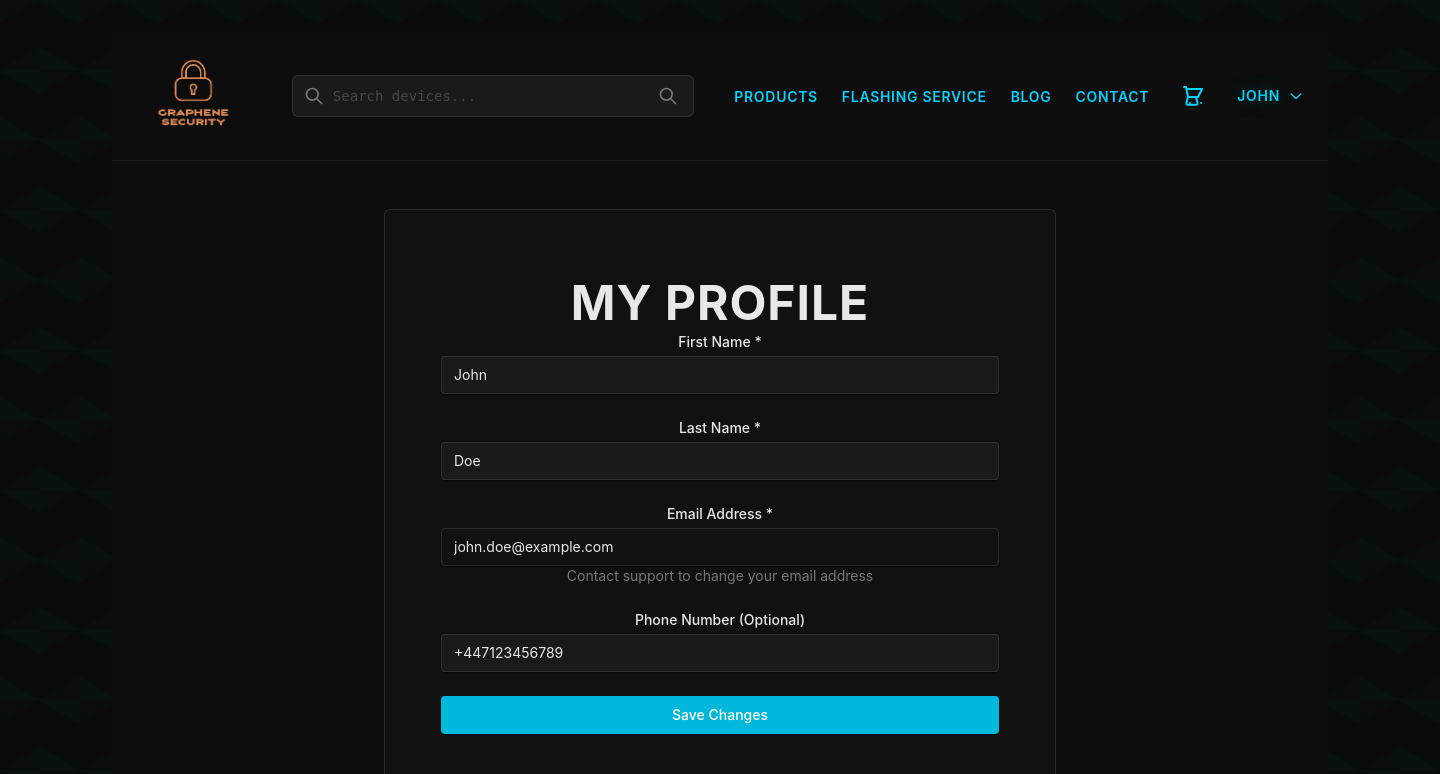
Test case: Profile Flow Integration Tests › should successfully update profile information
Expected: the heading "My Profile" is shown, [571,273,869,332]
Update first name
Type "Jane" into the field labelled "First Name *" at x=720, y=375, box [441,356,999,394]
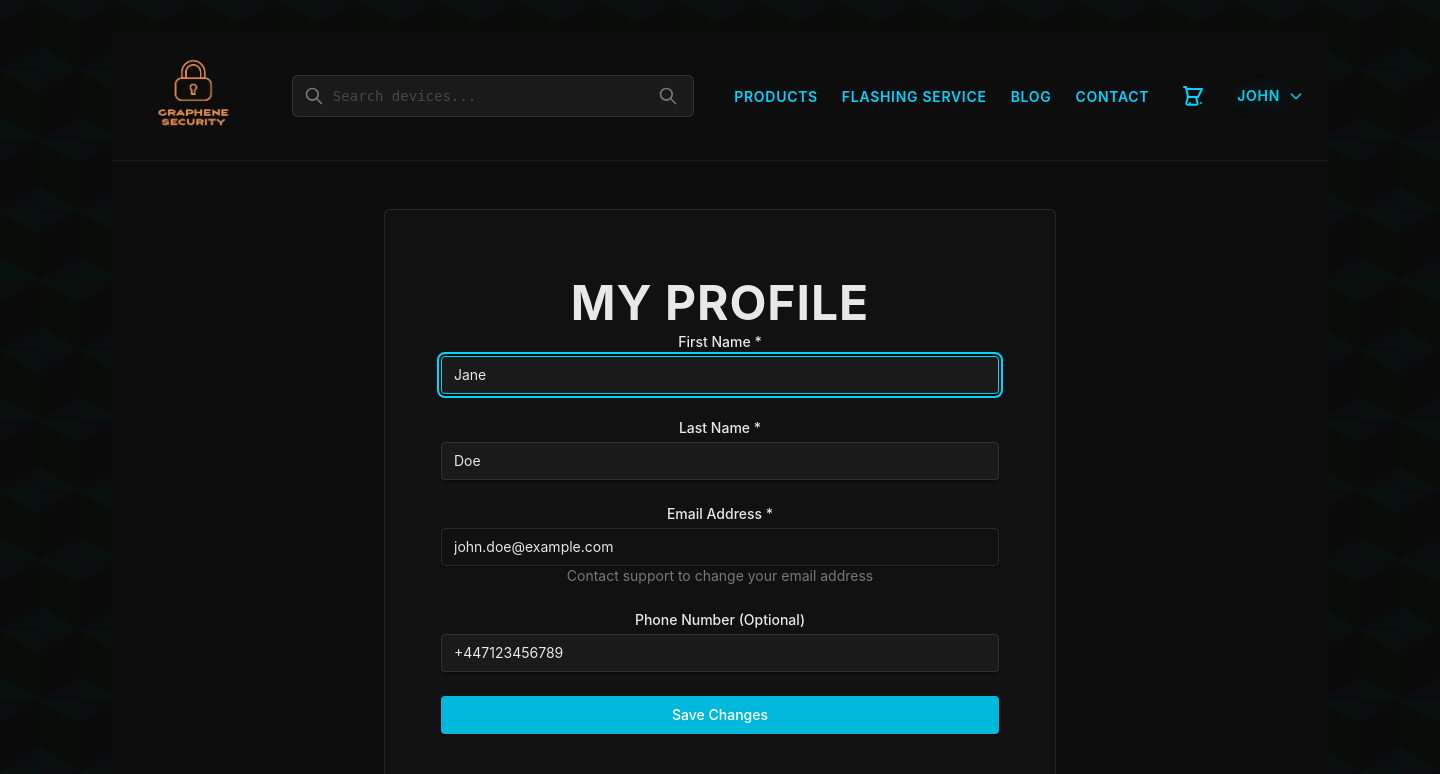
Update phone number
Replace the text in the field labelled "Phone Number (Optional)" with "+441234567890" at x=720, y=653, box [441,634,999,672]
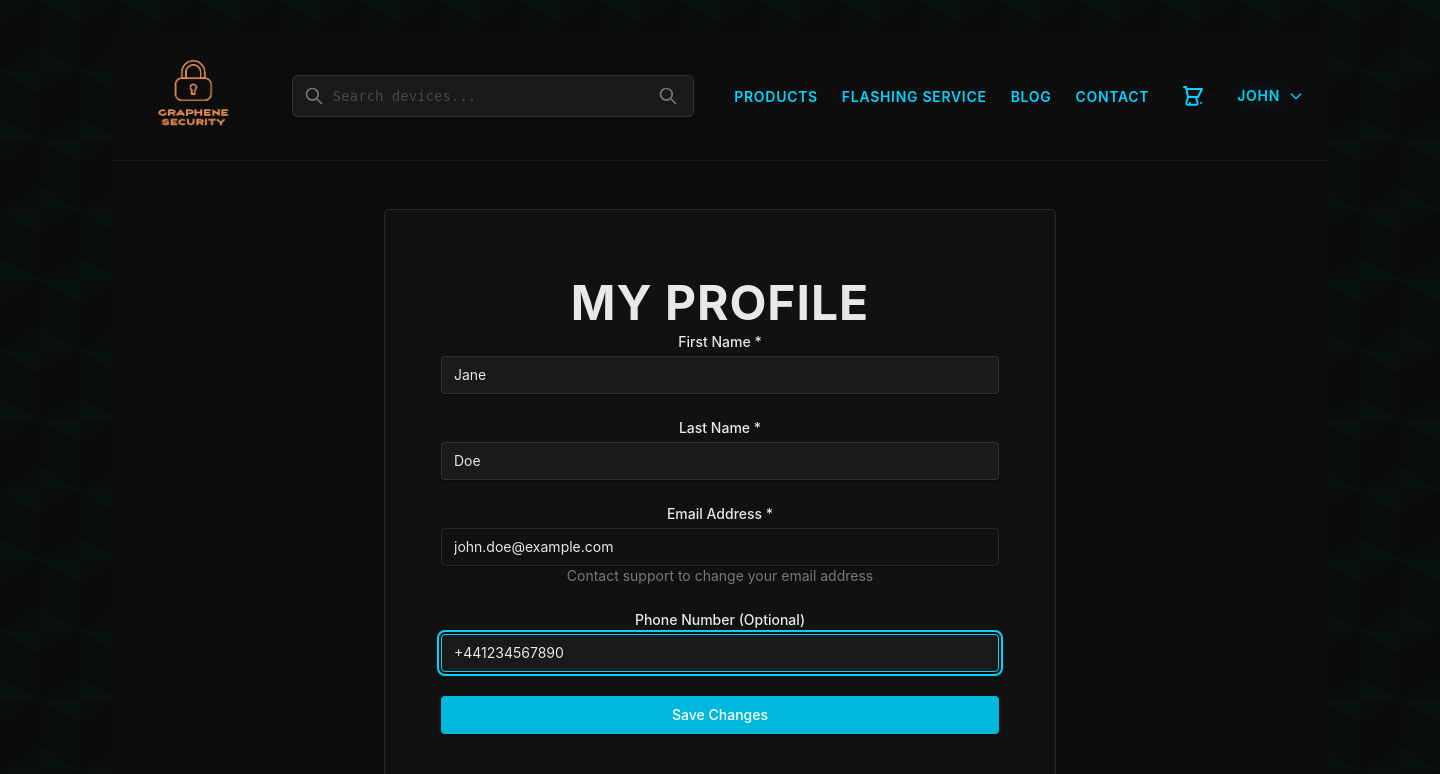
Submit the form
Click the button "Save Changes" at x=720, y=715, box [441,696,999,734]
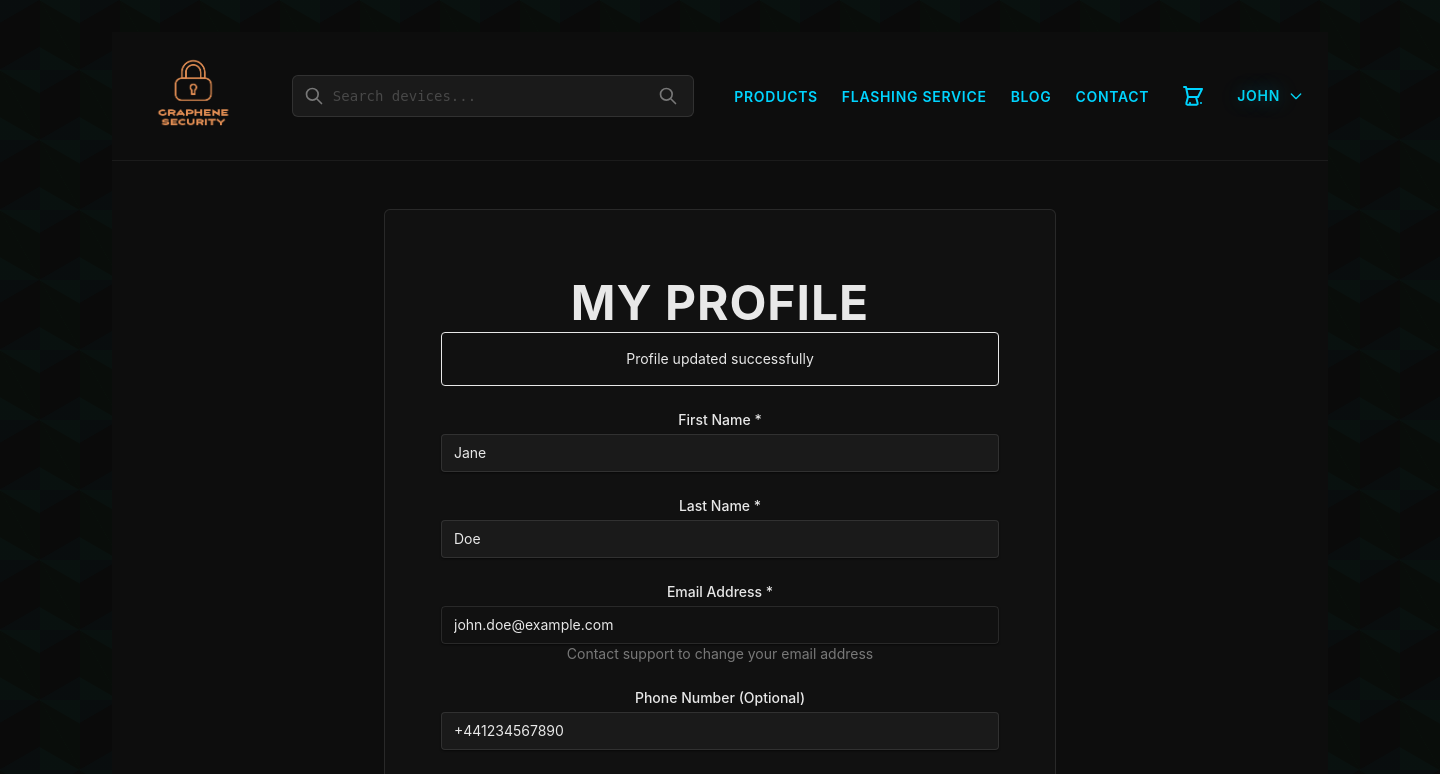
Result: the text "Profile updated successfully" is shown at [626,350,814,367]
